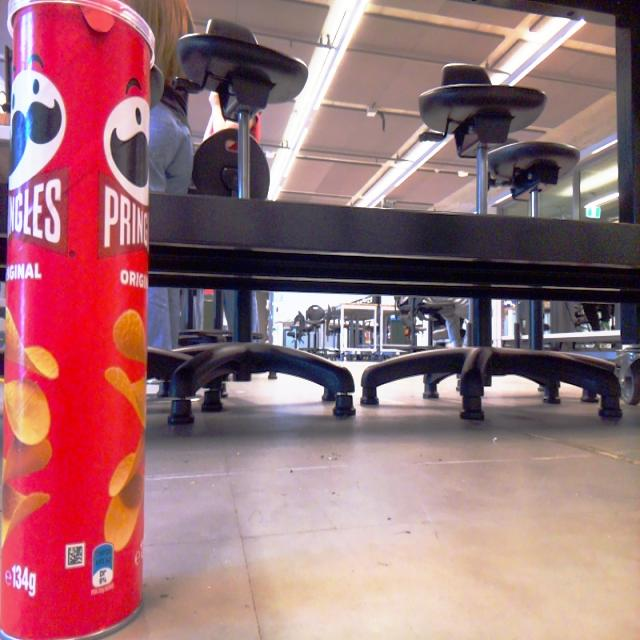redpringles: (8, 0, 179, 640)
